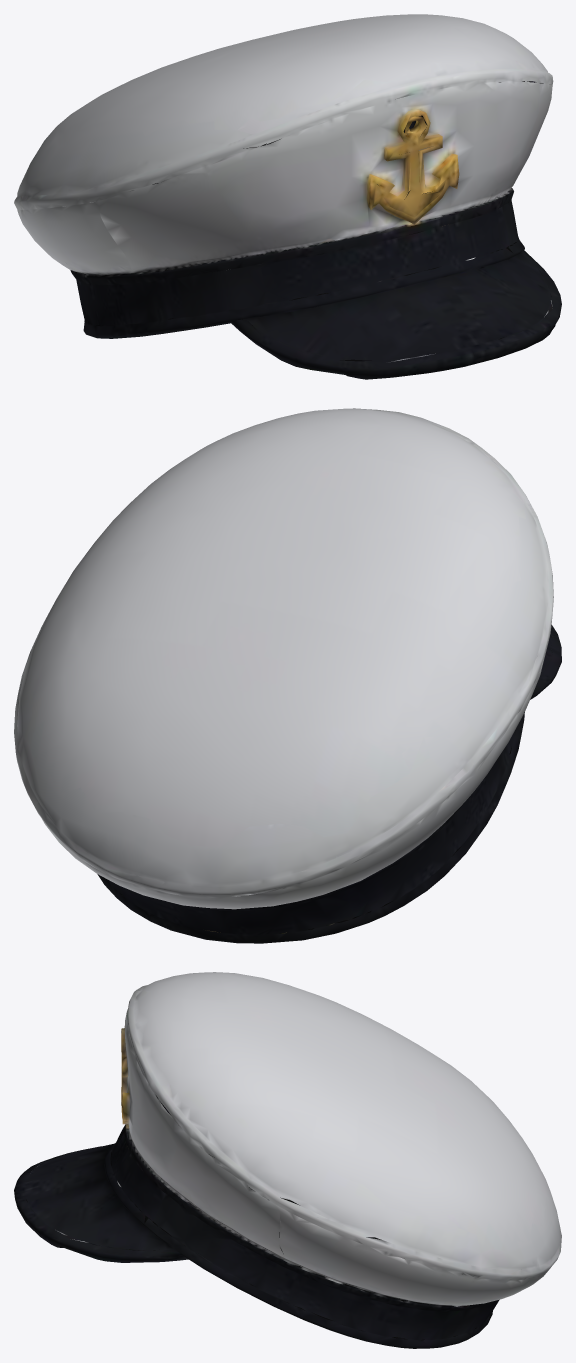
The model's file is captain.glb.
3 renders of one model, top to bottom at view 1: azimuth 30°, elevation 25°; view 2: azimuth 150°, elevation 25°; view 3: azimuth 270°, elevation 25°, orthographic. The views are drawn at different scales.
Parts seen in each view (by area): view 1: node_0; view 2: node_0; view 3: node_0.
Part boxes in pixels (x1,y1,x2,y2): node_0: (14, 14, 561, 379); node_0: (14, 408, 561, 943); node_0: (14, 972, 561, 1348).
Size of the model in its own units: 0.46 by 0.3597 by 0.5764.
Materials: 1 (1 with a texture image).
